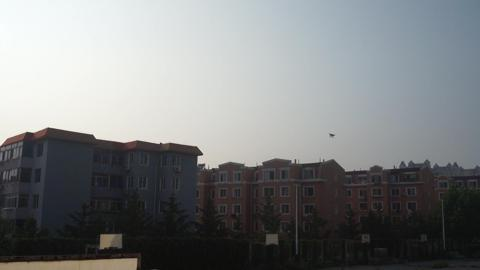UAV: (329, 134, 336, 138)
